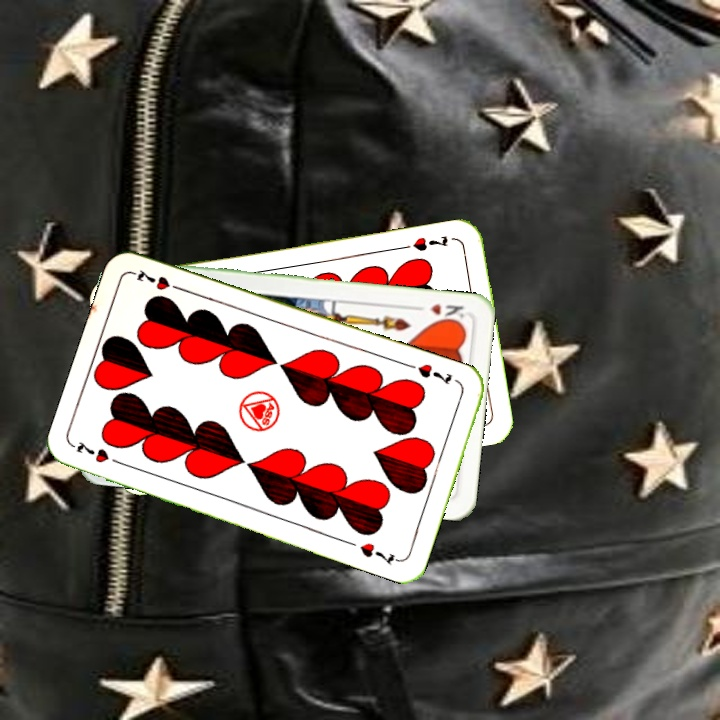H7: (70, 437, 127, 469), (413, 359, 455, 388), (409, 231, 451, 254)
HK: (426, 299, 469, 326)
